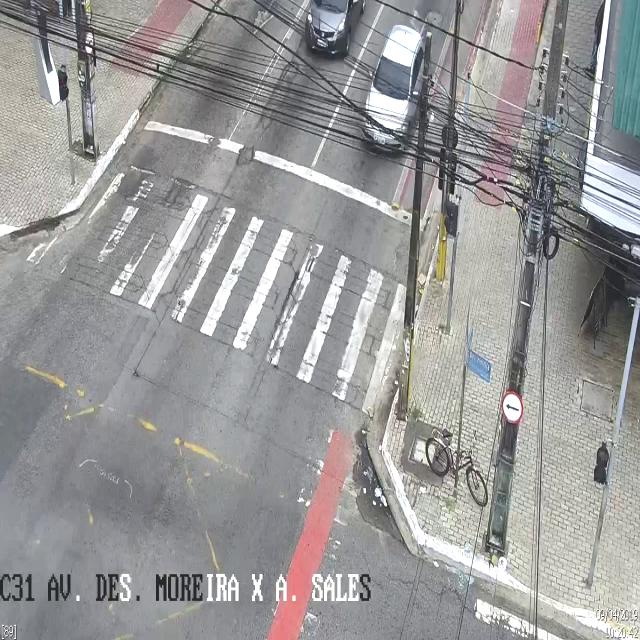Car: (362, 23, 431, 154), (305, 2, 365, 58)
